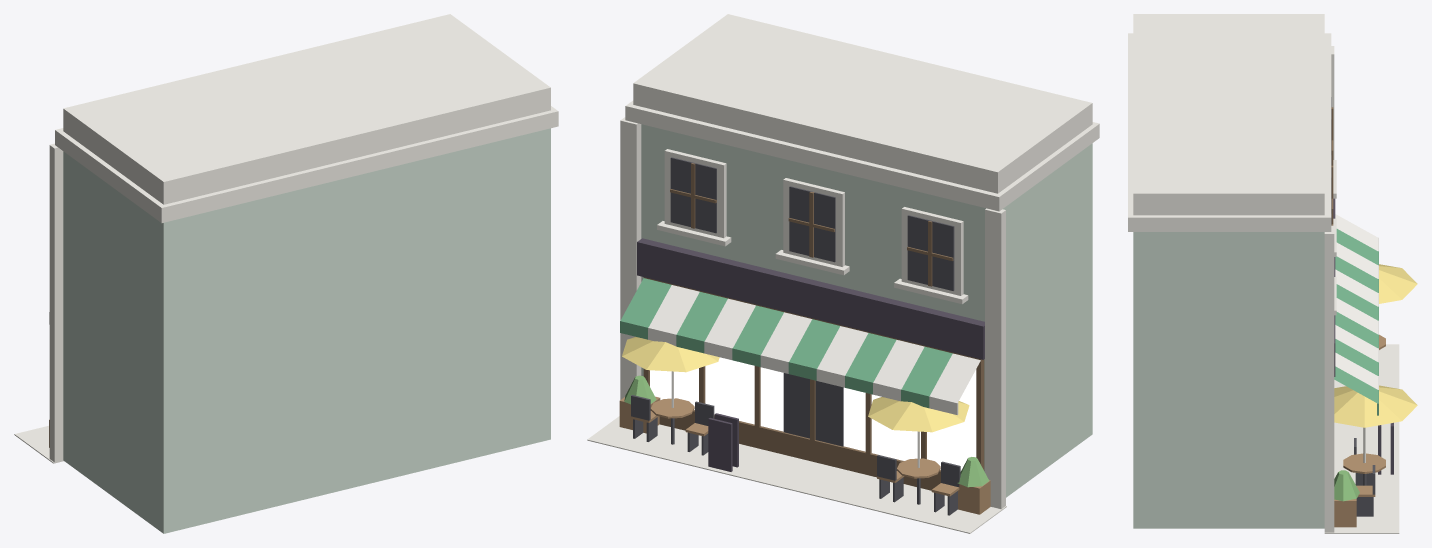
The model's file is restaurant-cafe.glb.
3 views of the same model, side by side, from view 1: azimuth 30°, elevation 25°; view 2: azimuth 150°, elevation 25°; view 3: azimuth 270°, elevation 25° (orthographic). The views are drawn at different scales.
Parts seen in each view (by area): view 1: cafe-wall, cafe-trim; view 2: cafe-trim, cafe-wall, cafe-sign, cafe-dark, cafe-glass, cafe-awning-b, cafe-awning-a, cafe-frame, cafe-parasol, cafe-wood, cafe-green; view 3: cafe-wall, cafe-trim, cafe-awning-a, cafe-awning-b, cafe-parasol, cafe-wood, cafe-dark, cafe-green, cafe-sign, cafe-frame.
Part boxes in pixels (x1,y1,x2,y2): cafe-wall: [63, 128, 550, 533]; cafe-trim: [14, 14, 558, 463]; cafe-trim: [587, 14, 1099, 533]; cafe-wall: [641, 124, 1092, 497]; cafe-sign: [637, 238, 984, 471]; cafe-dark: [631, 157, 960, 515]; cafe-glass: [650, 357, 976, 471]; cafe-awning-b: [648, 285, 980, 414]; cafe-awning-a: [620, 278, 952, 408]; cafe-frame: [643, 163, 984, 490]; cafe-parasol: [622, 337, 969, 432]; cafe-wood: [619, 396, 990, 514]; cafe-green: [624, 375, 989, 487]; cafe-wall: [1133, 232, 1324, 528]; cafe-trim: [1128, 14, 1399, 533]; cafe-awning-a: [1334, 229, 1378, 415]; cafe-awning-b: [1335, 214, 1378, 389]; cafe-parasol: [1334, 264, 1417, 427]; cafe-wood: [1334, 334, 1385, 527]; cafe-dark: [1331, 97, 1375, 516]; cafe-green: [1334, 470, 1359, 501]; cafe-sign: [1333, 198, 1393, 474]; cafe-frame: [1331, 107, 1333, 225].
Size of the model in its own units: 8.4 by 6.97 by 5.45.
